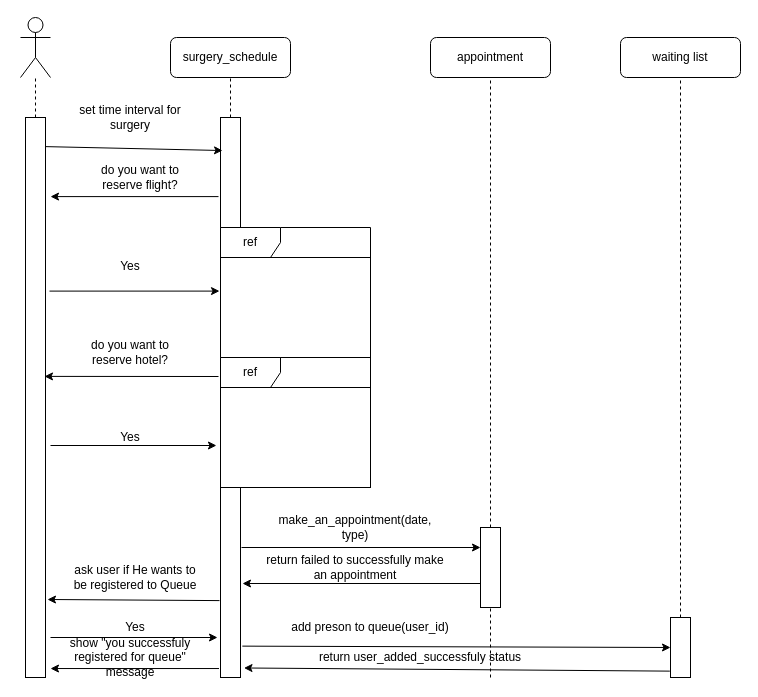
Some shapes in this 758 by 697 pixel diagram are drawn without their labels. The centre of each missing label's shape, as x and y in pixels:
patient: (x=35, y=47)
reserve_flight_sequence_diagram( date, city): (x=295, y=307)
reserve_hotel_sequence_diagram( date, city): (x=295, y=437)
